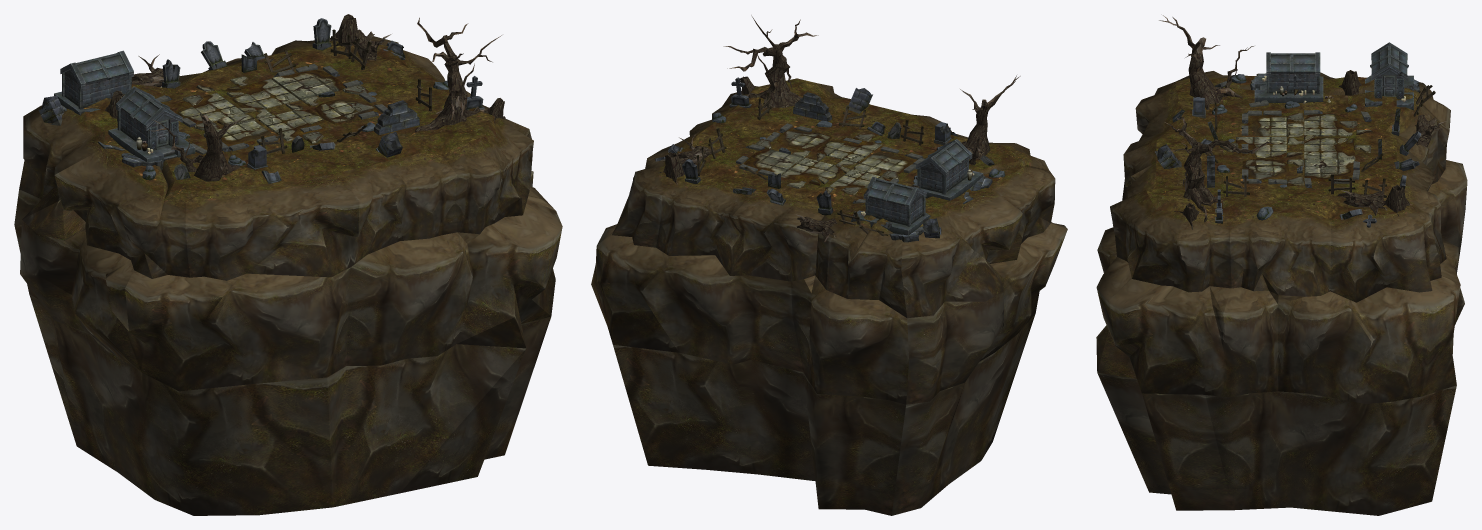
Rendered from cell1L_r.fbx.
The picture shows the model from 3 angles, left to right: view 1: azimuth 30°, elevation 25°; view 2: azimuth 150°, elevation 25°; view 3: azimuth 270°, elevation 25°; orthographic projection. The views are drawn at different scales.
Parts seen in each view (by area): view 1: cell1L_r; view 2: cell1L_r; view 3: cell1L_r.
Boxes of the visible parts, box(x1,y1,x2,y2) form: cell1L_r: box(14, 14, 562, 515); cell1L_r: box(591, 15, 1067, 515); cell1L_r: box(1096, 15, 1467, 515).
Size of the model in its own units: 25.71 by 23.37 by 21.3.
